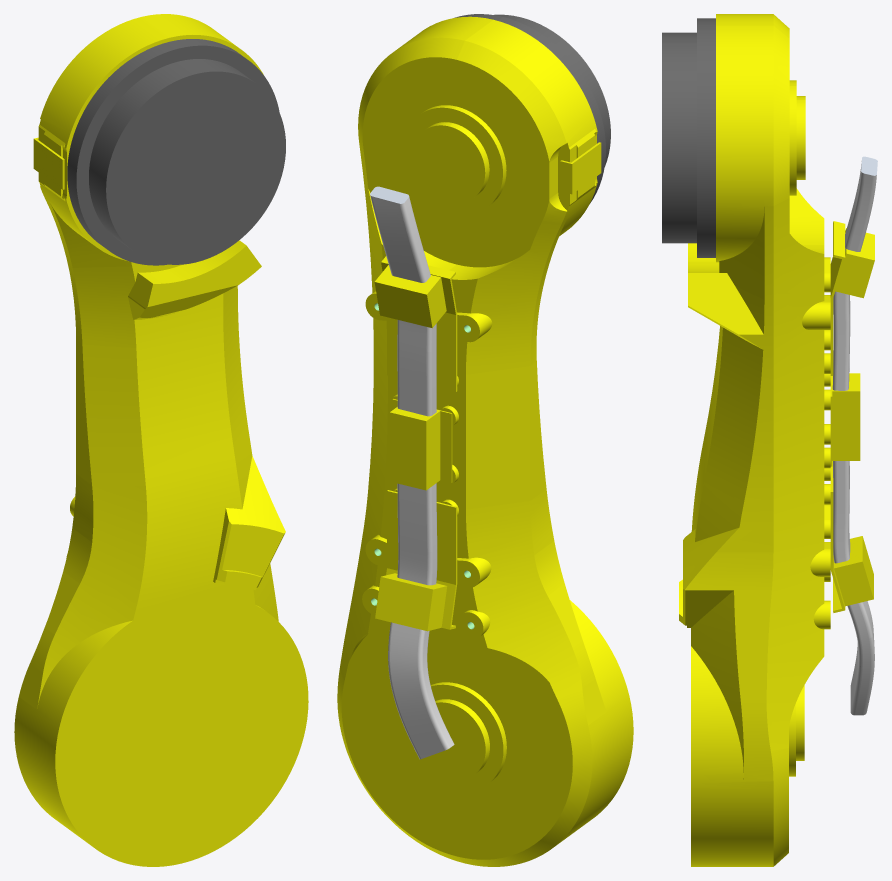
3 views of the same model, side by side, from view 1: azimuth 30°, elevation 25°; view 2: azimuth 150°, elevation 25°; view 3: azimuth 270°, elevation 25° (orthographic).
Parts seen in each view (by area): view 1: Mesh_0; view 2: Mesh_0; view 3: Mesh_0.
Part boxes in pixels (x1,y1,x2,y2): Mesh_0: [14, 14, 308, 866]; Mesh_0: [337, 14, 633, 866]; Mesh_0: [662, 14, 877, 866].
Bounding box in the file's own units: 0.37 × 0.2694 × 1.14.
